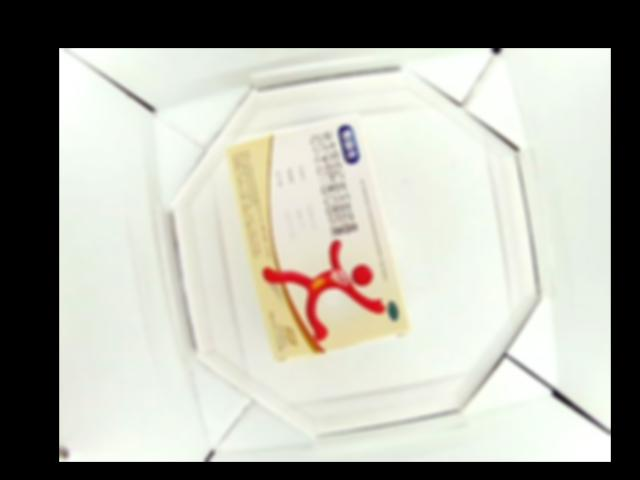Medicine: (223, 112, 406, 360)
